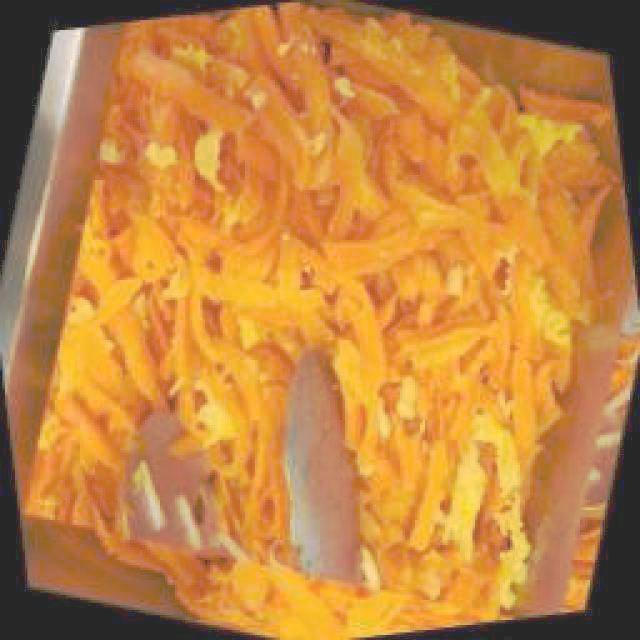carrot_eggs: (31, 4, 626, 621)
